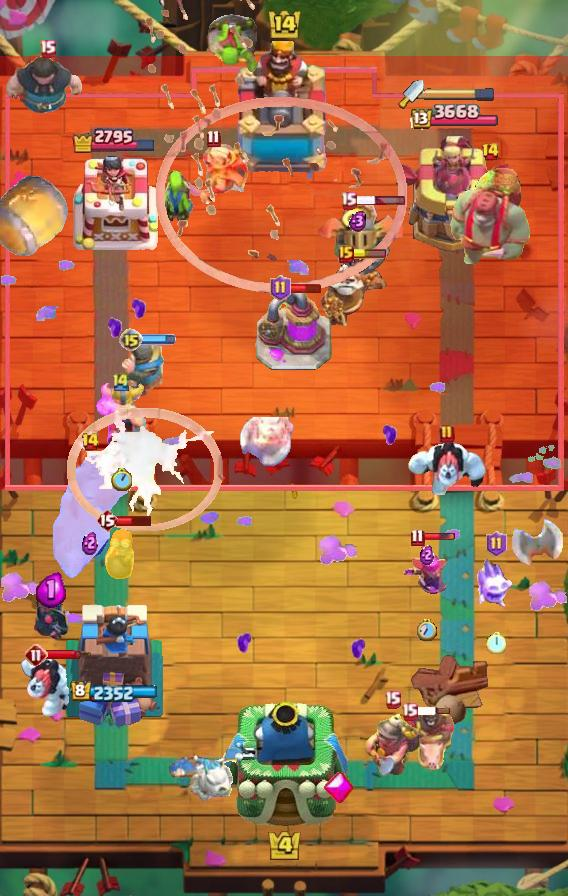bandit: (361, 706, 423, 778)
bar: (391, 132, 515, 256)
bar-level: (207, 13, 261, 75)
barbarian-evolution: (67, 409, 223, 532)
battle-ram: (31, 594, 71, 646)
dirt: (0, 172, 71, 260)
electro-spirit: (36, 572, 66, 608), (82, 530, 98, 555), (349, 210, 367, 232), (420, 544, 434, 565)
elixir: (112, 468, 133, 491), (486, 630, 506, 654), (417, 619, 437, 641)
elixir-collector: (320, 259, 390, 333)
emote: (354, 194, 406, 205), (115, 513, 152, 526), (46, 649, 82, 661), (140, 334, 176, 345), (288, 283, 322, 294), (351, 249, 387, 259), (415, 706, 451, 716), (422, 532, 456, 542)
evolution-symbol: (400, 542, 454, 600)
firecracker: (122, 342, 166, 397)
freeze: (388, 707, 456, 773)
goblin-giant: (97, 380, 148, 446)
ice-golem: (103, 524, 137, 580)
king-tower: (220, 702, 348, 827), (228, 41, 340, 181)
king-tower-bar: (424, 87, 496, 101)
lava-hound: (447, 162, 533, 274)
mini-pekka: (167, 744, 247, 804)
mirror: (476, 559, 516, 609)
night-witch: (313, 197, 403, 277)
pekka: (254, 290, 332, 372)
queen-tower: (61, 599, 166, 731), (67, 152, 161, 256)
rage: (407, 441, 487, 495), (20, 654, 86, 718)
royal-giant: (511, 500, 565, 568), (238, 417, 294, 467)
royal-hog: (3, 52, 91, 128)
selected: (408, 104, 498, 132), (71, 126, 157, 154), (70, 680, 158, 703)
skeleton-barrel: (144, 1, 408, 296)
skeleton-king: (177, 141, 249, 209)
skeleton-king-skill: (322, 771, 354, 805)
text: (119, 328, 143, 352), (24, 643, 48, 667), (270, 275, 291, 301), (485, 531, 506, 557), (96, 508, 118, 532), (111, 371, 131, 392), (480, 142, 500, 162), (81, 432, 100, 452), (39, 38, 57, 57), (339, 190, 357, 209), (383, 691, 401, 709), (401, 703, 419, 721), (439, 424, 455, 444), (338, 245, 354, 263), (410, 528, 425, 547), (207, 129, 222, 147)
wizard: (52, 455, 128, 581)
zap: (159, 169, 197, 227)
